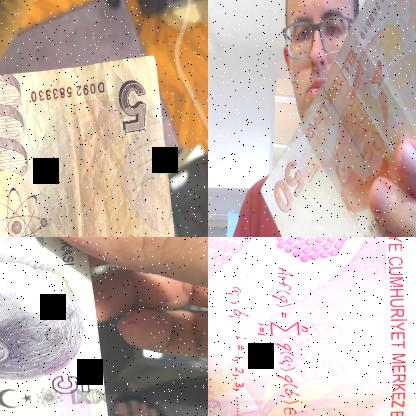5 TL: (0, 54, 184, 236)
